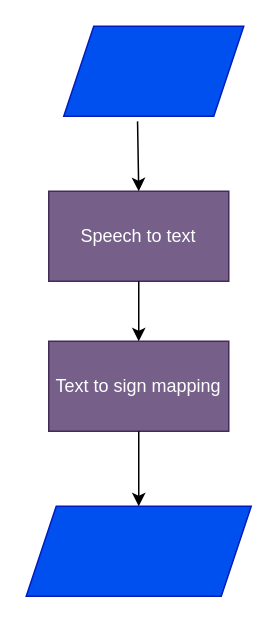
This 278x623 diagram has some shape labels left out. The centre of each missing label's shape, as x and y in pixels:
2D sign animation with emotion: (138,550)
Speech Input: (153,70)
